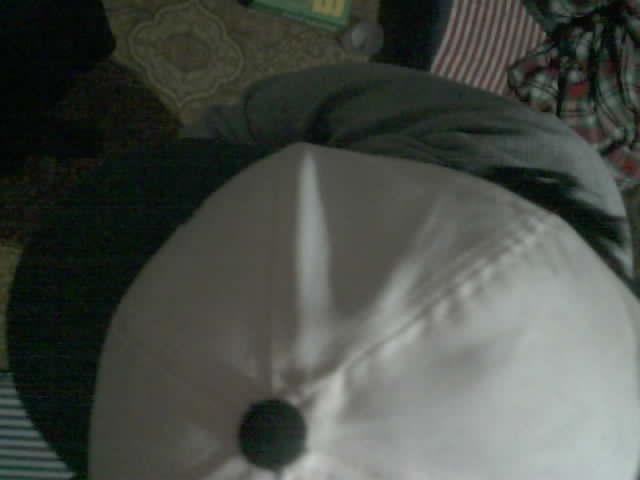cap: (88, 142, 639, 479)
